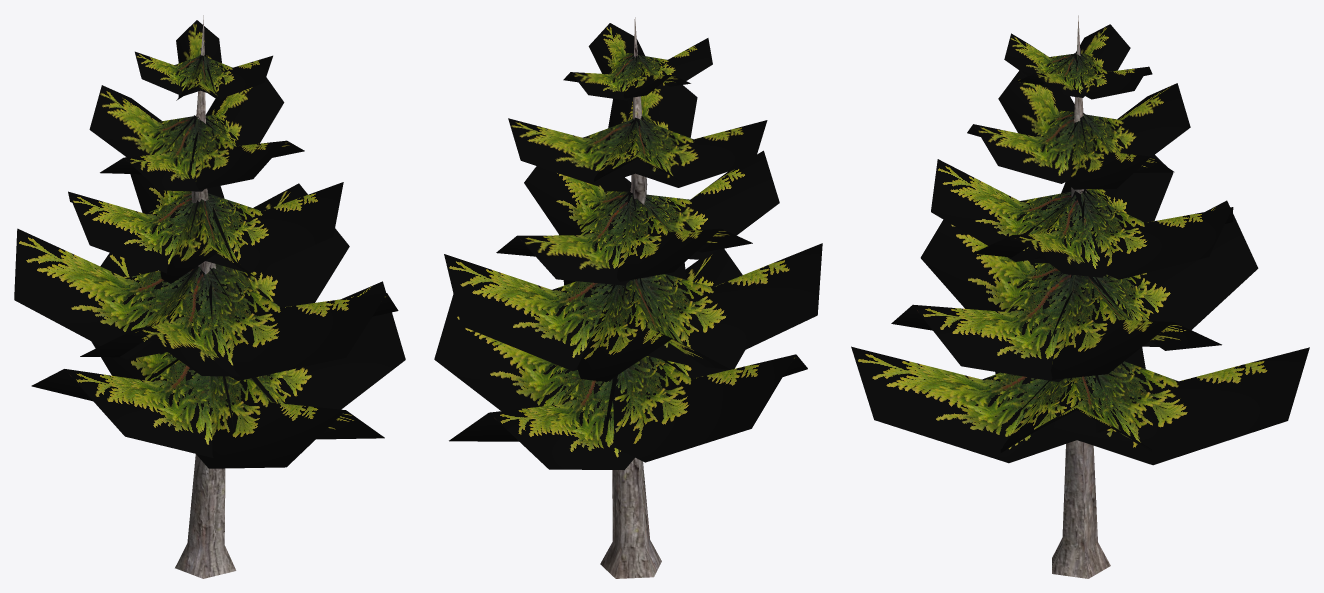
Rendered from tree4.glb.
3 renders of one model, left to right at view 1: azimuth 30°, elevation 25°; view 2: azimuth 150°, elevation 25°; view 3: azimuth 270°, elevation 25°, orthographic.
Parts seen in each view (by area): view 1: Arbol4; view 2: Arbol4; view 3: Arbol4.
Part boxes in pixels (<box>): Arbol4: <box>14,15,405,578</box>; Arbol4: <box>434,17,822,578</box>; Arbol4: <box>851,15,1309,578</box>.
Size of the model in its own units: 34.4 by 54.76 by 41.37.
2 materials, 2 textured.
